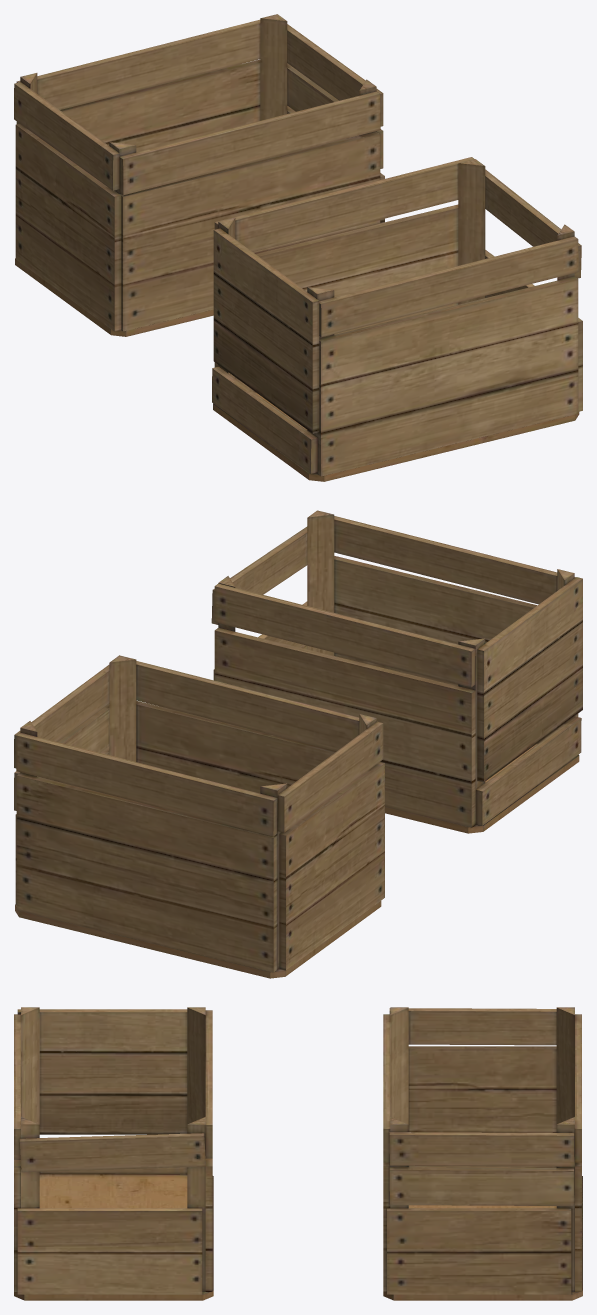
File: wooden_crate.glb
The picture shows the model from 3 angles, top to bottom: view 1: azimuth 30°, elevation 25°; view 2: azimuth 150°, elevation 25°; view 3: azimuth 270°, elevation 25°; orthographic projection. The views are drawn at different scales.
Parts seen in each view (by area): view 1: crate_1, crate_2; view 2: crate_2, crate_1; view 3: crate_2, crate_1.
Part boxes in pixels (x1,y1,x2,y2): crate_1: [212, 157, 582, 481]; crate_2: [14, 14, 384, 336]; crate_2: [14, 655, 384, 978]; crate_1: [211, 510, 582, 833]; crate_2: [383, 1007, 582, 1300]; crate_1: [14, 1007, 213, 1300].
Bounding box in the file's own units: 3.15 × 2.07 × 6.16.
2 materials, 2 textured.
